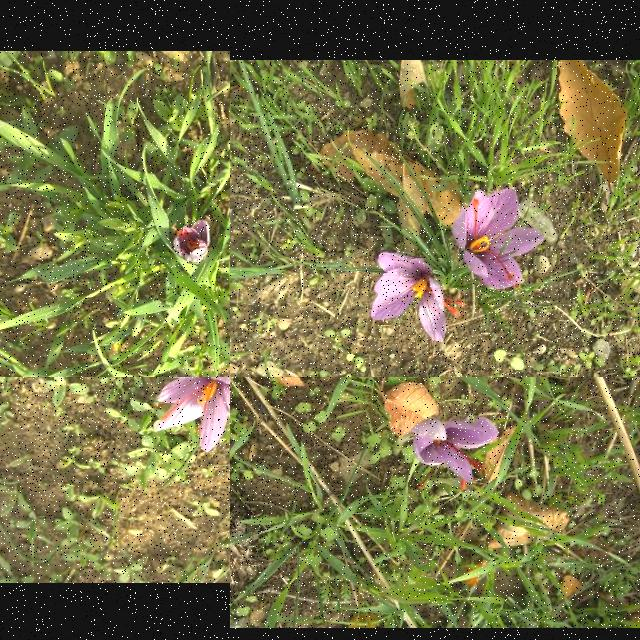flower: (455, 186, 545, 290), (372, 252, 464, 344), (409, 416, 499, 489), (153, 377, 230, 452), (173, 219, 211, 265)
